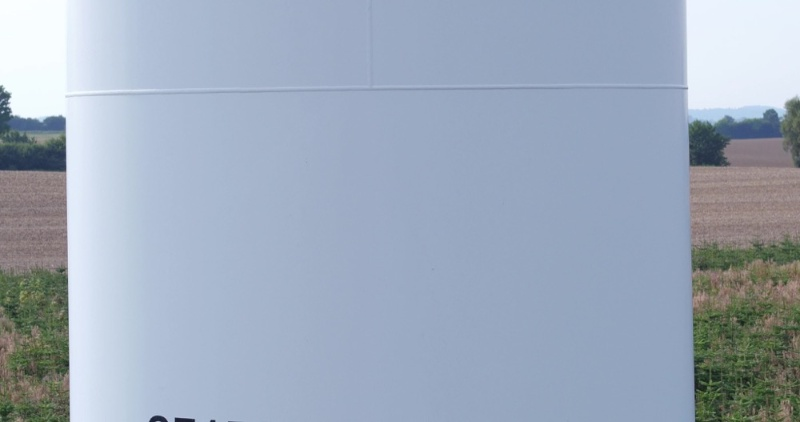weldseam: (61, 79, 691, 104), (357, 1, 377, 95)
